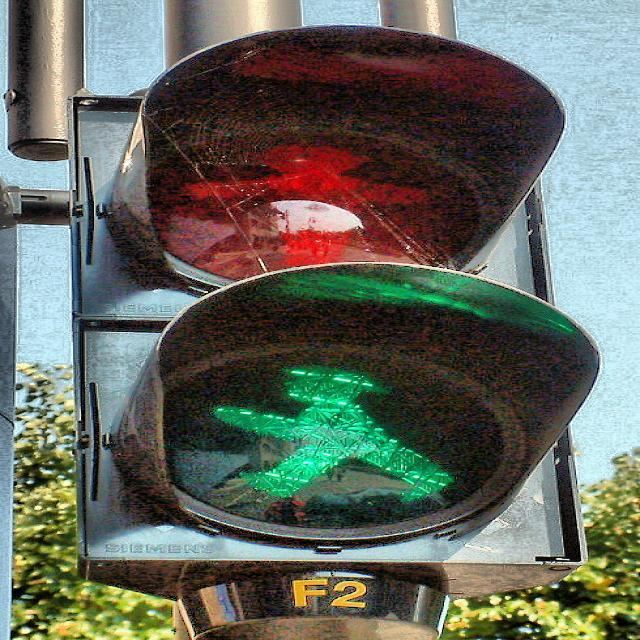green_light: (201, 360, 459, 504)
